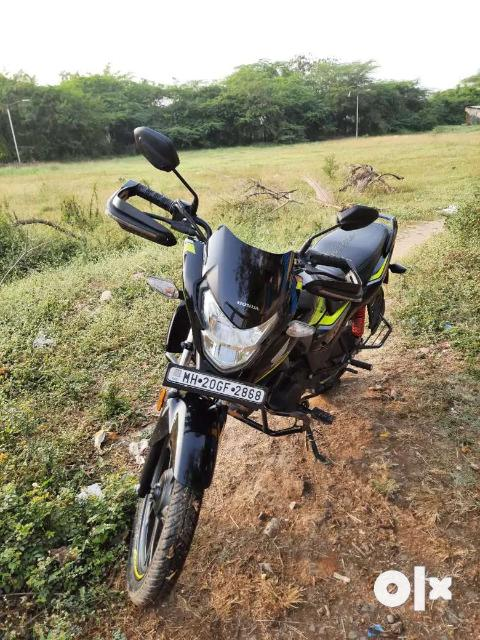Indian_Number_Plate: (164, 364, 269, 407)
